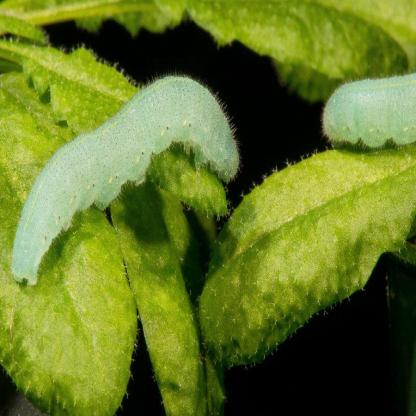armyworm: (11, 72, 243, 287), (319, 64, 416, 157)
